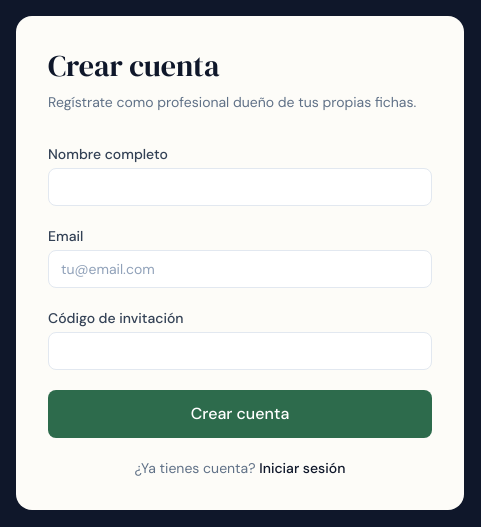
Scenario: SignupPage — registro por invitación (suscripciones apagadas) › registro exitoso envía los datos y muestra la pantalla de revisar email
Type "Ana Pérez" into the field labelled "Nombre completo".
click(240, 187); type("Ana Pérez")  # box [48,168,432,206]
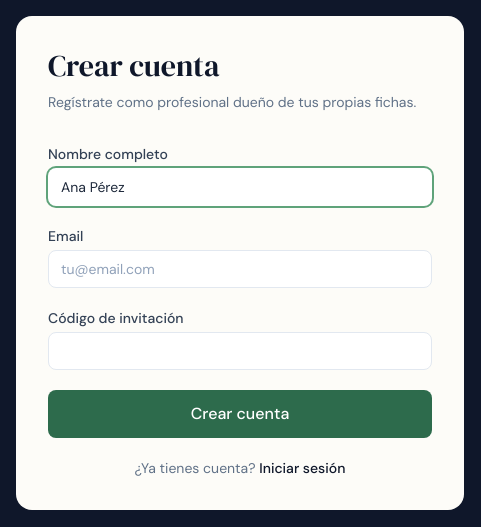
Type "ana@umbral.cl" into the field labelled "Email".
click(240, 269); type("ana@umbral.cl")  # box [48,250,432,288]
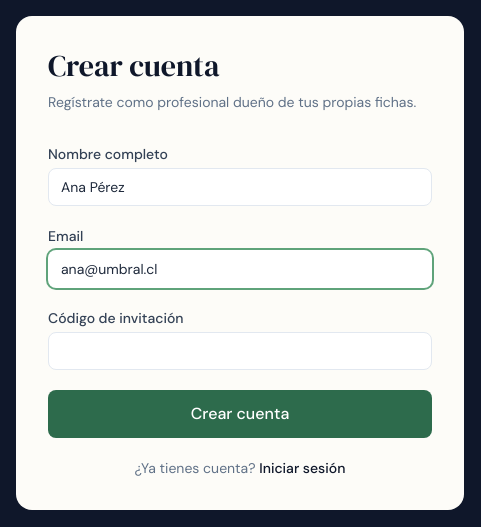
Type "INV-123" into the field labelled "Código de invitación".
click(240, 351); type("INV-123")  # box [48,332,432,370]
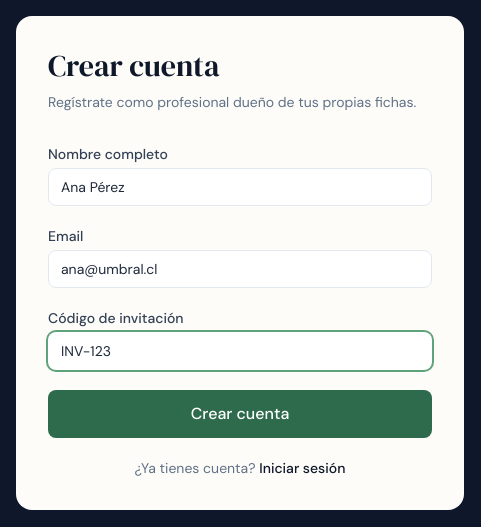
Click the button "Crear cuenta".
click(240, 414)  # box [48,390,432,438]
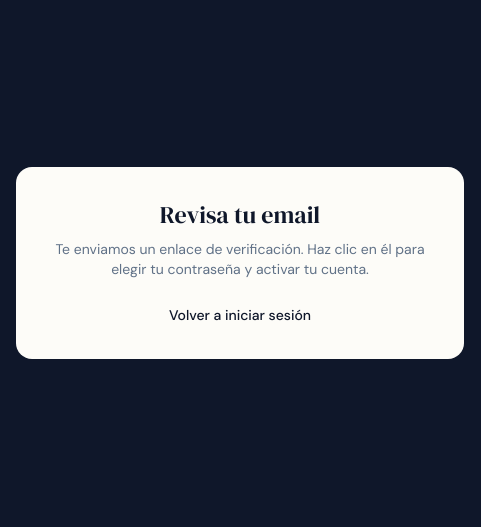
Check: the heading "Revisa tu email" is shown, box [160,198,320,231]
